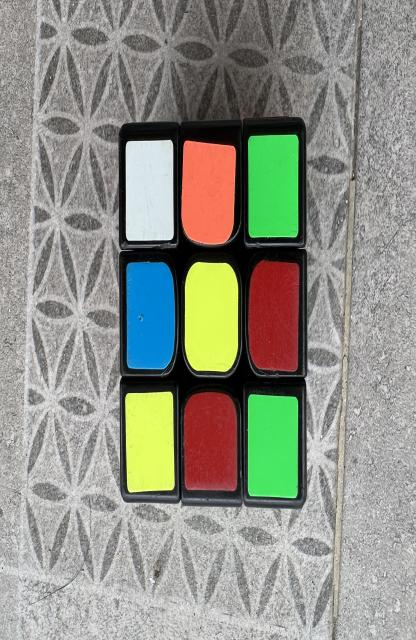Blue: (126, 262, 176, 370)
Green: (248, 135, 299, 238), (248, 393, 298, 498)
Orange: (181, 140, 236, 245)
Red: (249, 260, 299, 372), (184, 392, 237, 492)
White: (126, 140, 174, 242)
Yellow: (184, 262, 238, 372), (125, 392, 175, 493)
